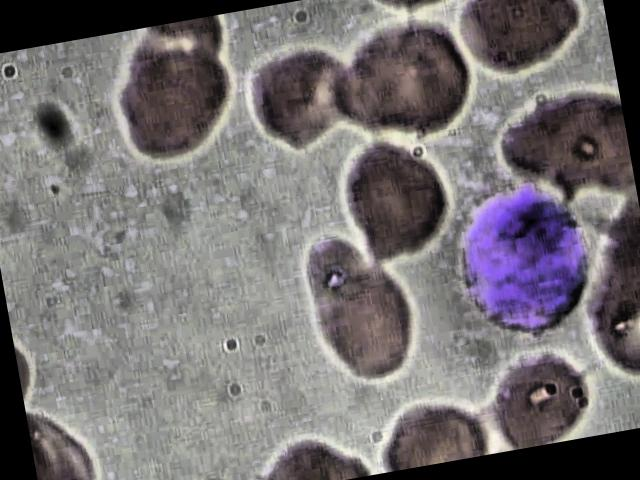Platelets: (191, 473, 238, 480)
RBC: (324, 5, 486, 153), (300, 253, 444, 392), (322, 131, 467, 268), (233, 32, 369, 162), (109, 36, 243, 166), (475, 338, 600, 454), (443, 0, 593, 86)
WBC: (440, 165, 612, 346)
